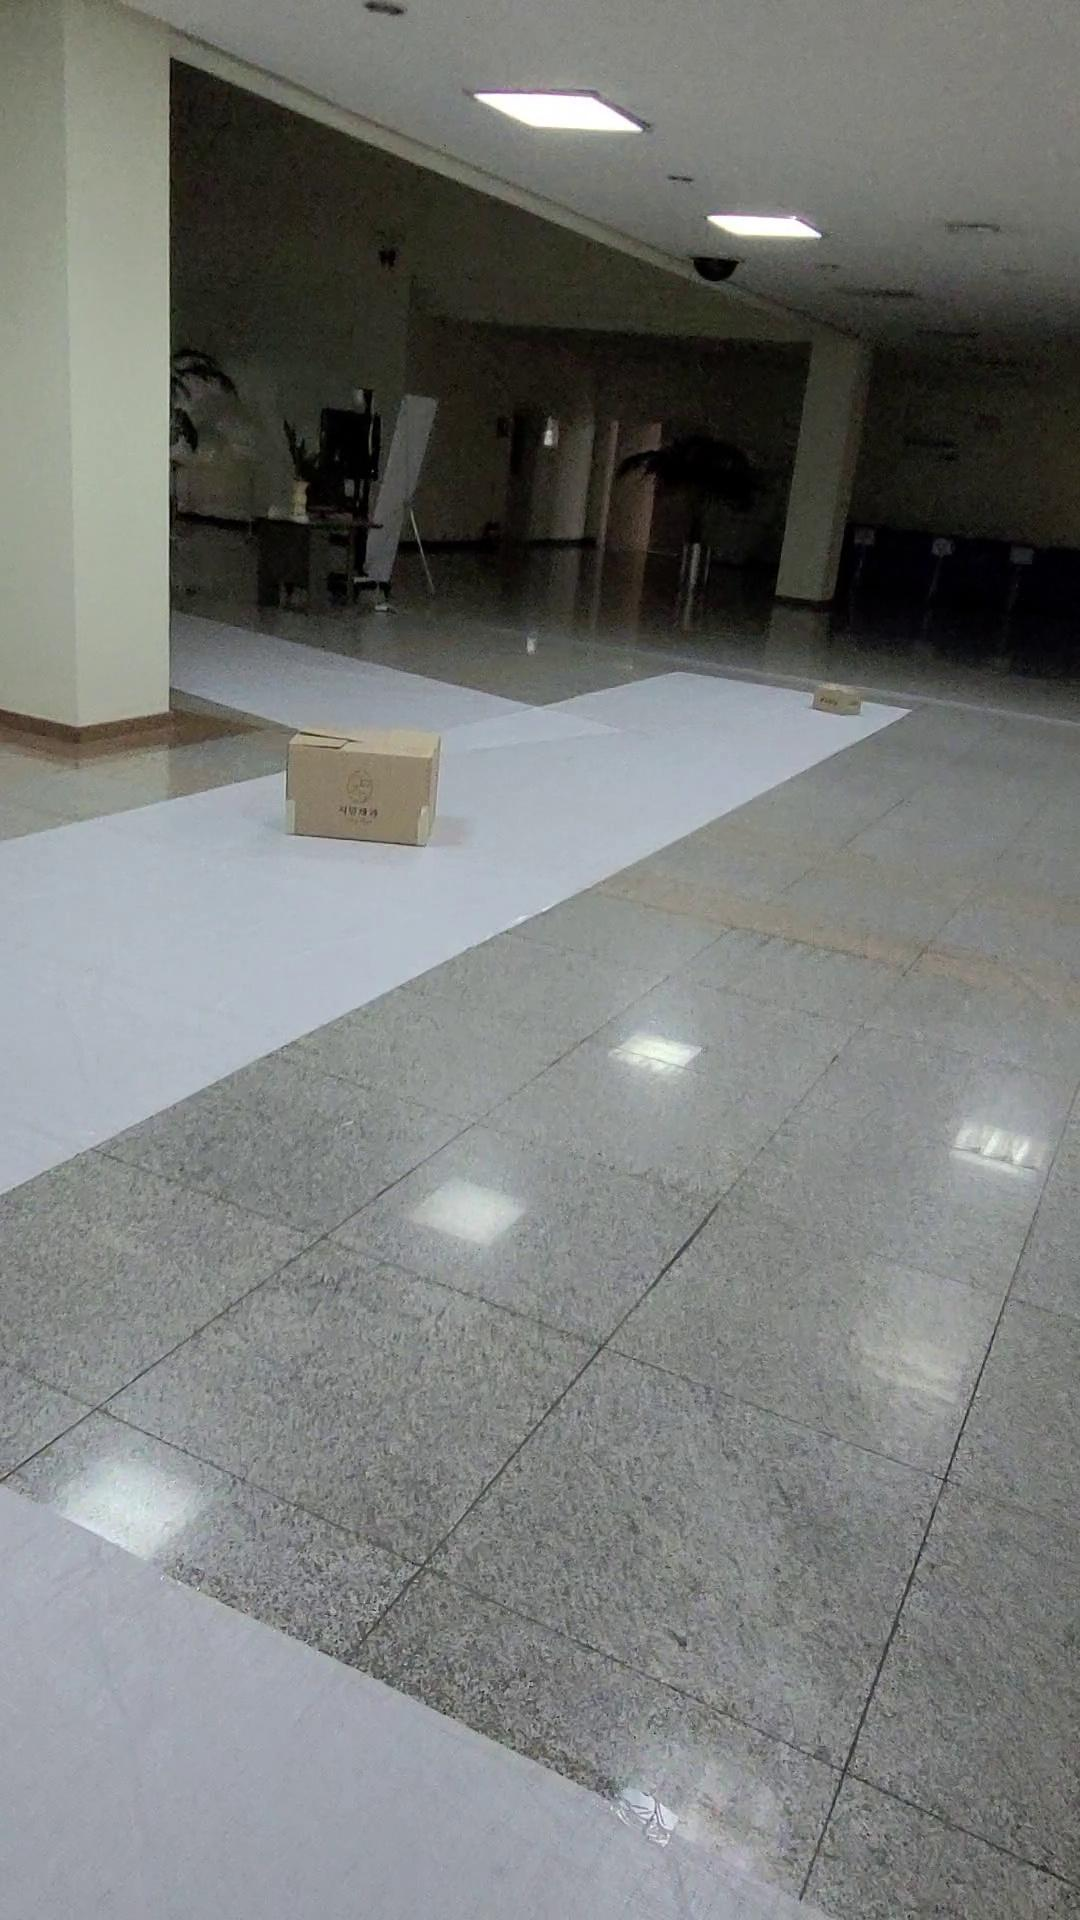Box: (268, 709, 460, 880), (793, 663, 884, 745)
